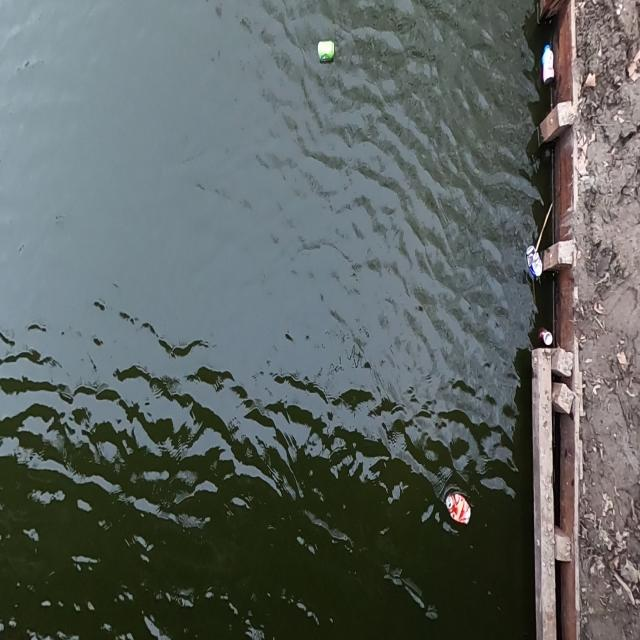Bouteille plastique: (541, 41, 558, 87)
Non plastique: (443, 488, 474, 532), (526, 242, 546, 287), (314, 34, 339, 68), (538, 323, 557, 350)
